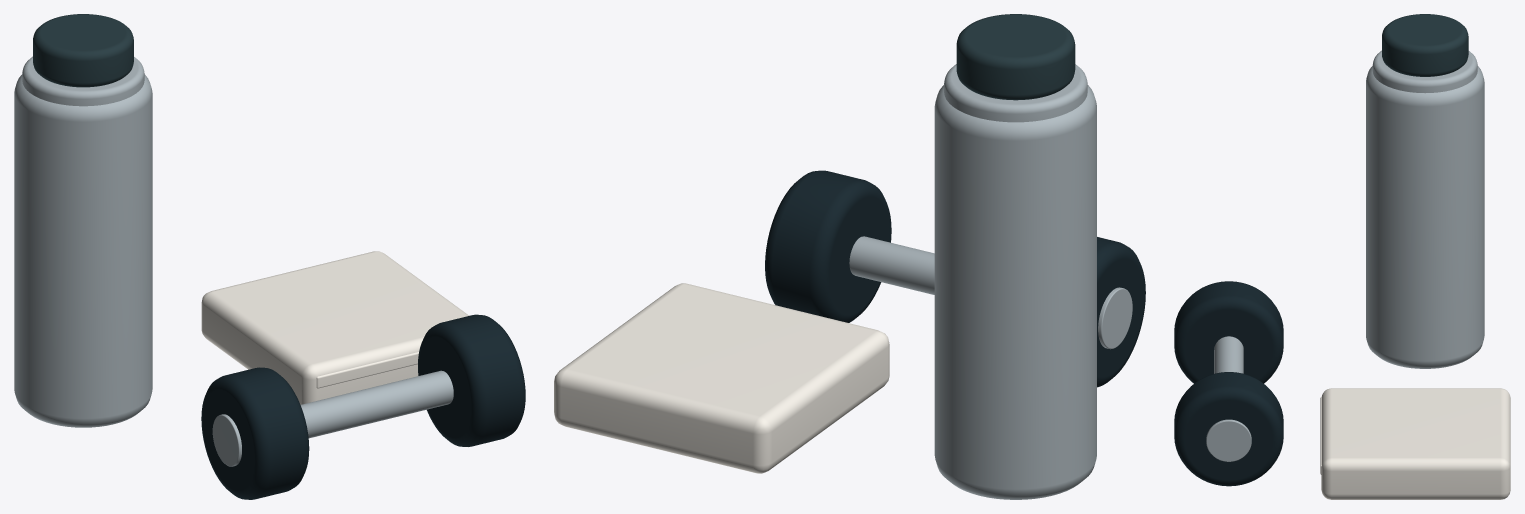
The model's file is health-modern.glb.
3 views of the same model, side by side, from view 1: azimuth 30°, elevation 25°; view 2: azimuth 150°, elevation 25°; view 3: azimuth 270°, elevation 25° (orthographic). The views are drawn at different scales.
Visible parts, largest first — view 1: Brushed steel water bottle, Folded gym towel, Rubber dumbbell end.001, Rubber dumbbell end, Bottle screw cap, Dumbbell steel grip, Bottle shoulder, Towel folded seam, Dumbbell inset hub; view 2: Brushed steel water bottle, Folded gym towel, Rubber dumbbell end.001, Bottle screw cap, Rubber dumbbell end, Bottle shoulder, Dumbbell steel grip, Dumbbell inset hub; view 3: Brushed steel water bottle, Folded gym towel, Rubber dumbbell end.001, Rubber dumbbell end, Bottle screw cap, Bottle shoulder, Dumbbell inset hub.001, Dumbbell steel grip.
Boxes of the visible parts, x1,y1,x2,y2 form: Brushed steel water bottle: (14,74,152,427); Folded gym towel: (201,251,468,404); Rubber dumbbell end.001: (418,314,525,446); Rubber dumbbell end: (201,367,309,499); Bottle screw cap: (33,14,133,87); Dumbbell steel grip: (300,370,453,438); Bottle shoulder: (22,56,144,106); Towel folded seam: (316,352,418,388); Dumbbell inset hub: (212,414,241,466); Brushed steel water bottle: (934,85,1096,499); Folded gym towel: (554,283,889,473); Rubber dumbbell end.001: (765,170,891,322); Bottle screw cap: (956,14,1075,100); Rubber dumbbell end: (1097,237,1145,387); Bottle shoulder: (944,64,1087,122); Dumbbell steel grip: (849,236,934,294); Dumbbell inset hub: (1098,287,1132,349); Brushed steel water bottle: (1366,66,1484,368); Folded gym towel: (1321,388,1510,499); Rubber dumbbell end.001: (1174,372,1283,486); Rubber dumbbell end: (1174,281,1283,383); Bottle screw cap: (1382,14,1468,76); Bottle shoulder: (1372,50,1477,93); Dumbbell inset hub.001: (1206,419,1251,461); Dumbbell steel grip: (1214,336,1243,373).
Size of the model in its own units: 3.39 by 3.1 by 2.83.
